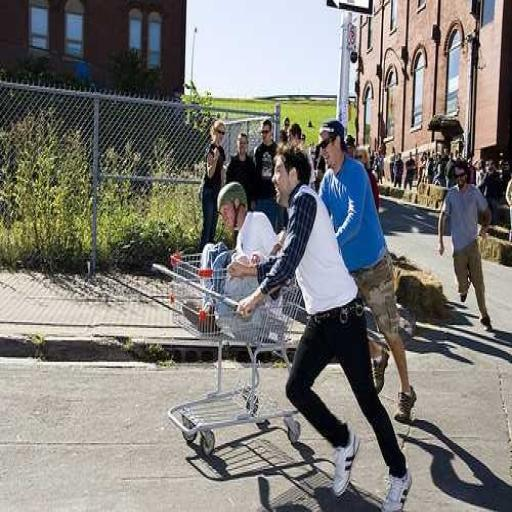shopping_cart: (168, 241, 307, 460)
